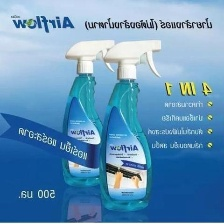cleaning_solution: (96, 37, 163, 215), (58, 38, 119, 190)
